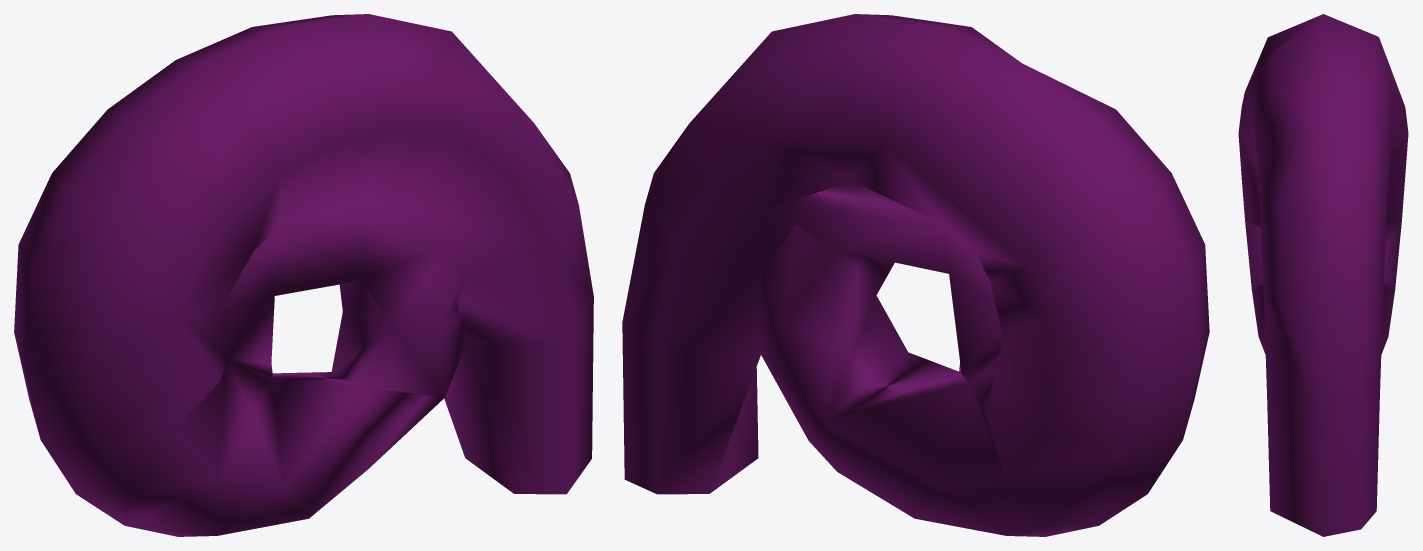
File: usk_Bush_lod.glb
The picture shows the model from 3 angles, left to right: view 1: azimuth 30°, elevation 25°; view 2: azimuth 150°, elevation 25°; view 3: azimuth 270°, elevation 25°; orthographic projection. The views are drawn at different scales.
Visible parts, largest first — view 1: Bush_3; view 2: Bush_3; view 3: Bush_3.
Part boxes in pixels (<box>): Bush_3: <box>14,14,593,536</box>; Bush_3: <box>622,14,1209,536</box>; Bush_3: <box>1238,14,1408,536</box>.
Size of the model in its own units: 1.86 by 1.58 by 0.6273.
Materials: 1 (1 with a texture image).
